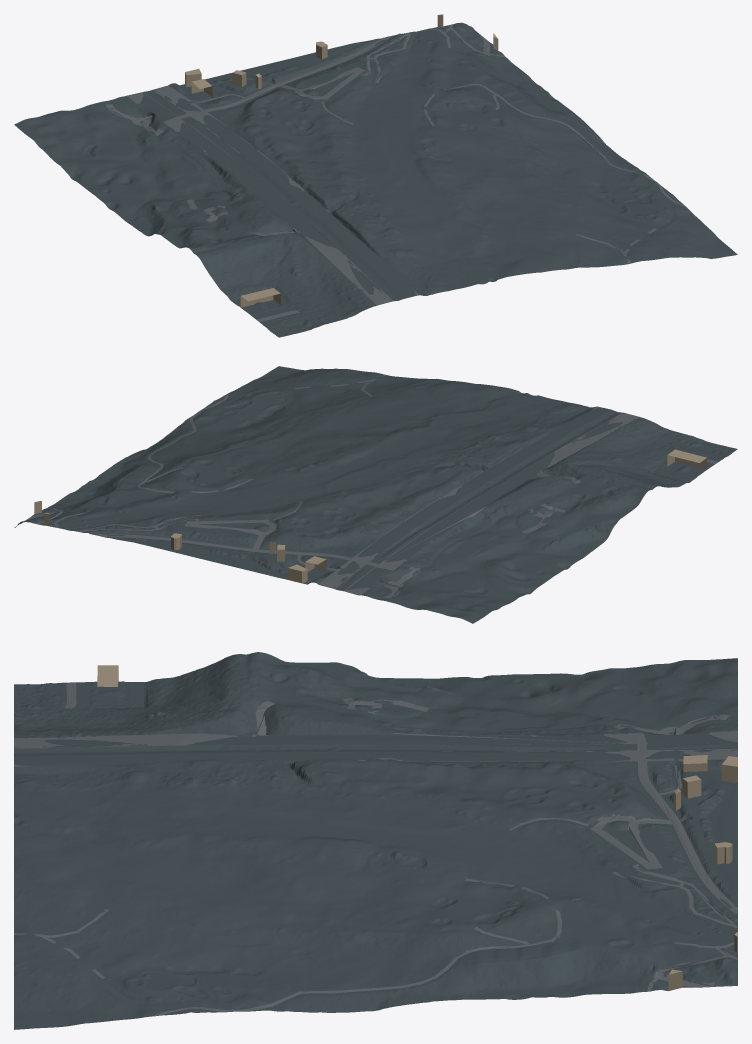
File: epsg26910-1417-10869.lod0.glb
3 views of the same model, one above another, from view 1: azimuth 30°, elevation 25°; view 2: azimuth 150°, elevation 25°; view 3: azimuth 270°, elevation 25° (orthographic). The views are drawn at different scales.
Visible parts, largest first — view 1: epsg26910-1417-10869-lod0; view 2: epsg26910-1417-10869-lod0; view 3: epsg26910-1417-10869-lod0.
Part boxes in pixels (x1,y1,x2,y2): epsg26910-1417-10869-lod0: (14, 14, 737, 337); epsg26910-1417-10869-lod0: (14, 366, 737, 623); epsg26910-1417-10869-lod0: (14, 652, 737, 1029).
Size of the model in its own units: 384 by 49.25 by 384.
